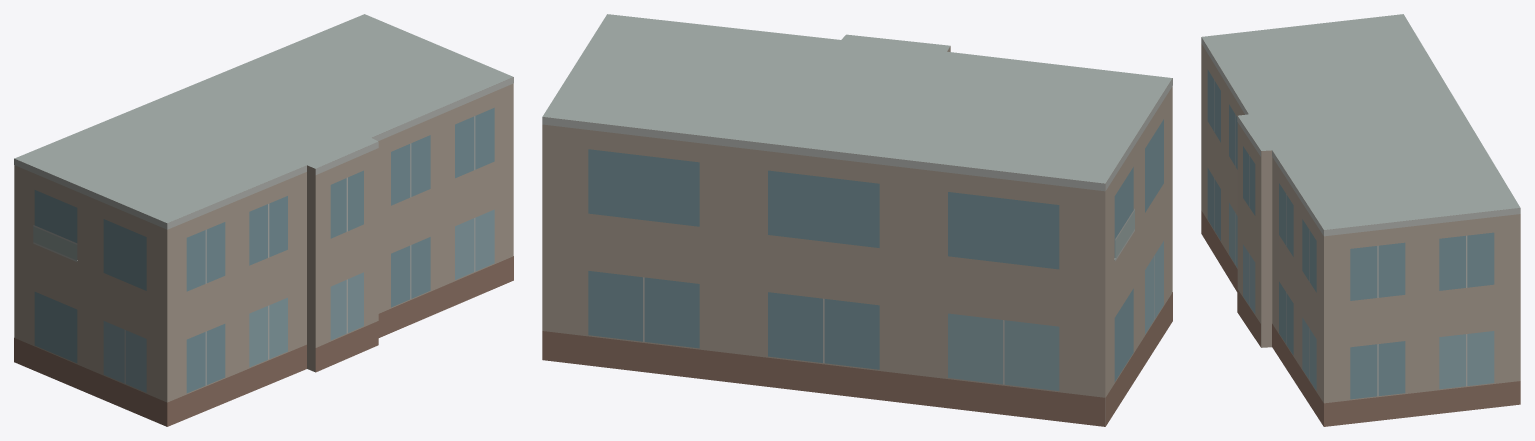
The model's file is survey-upis-32921725.glb.
The picture shows the model from 3 angles, left to right: view 1: azimuth 30°, elevation 25°; view 2: azimuth 150°, elevation 25°; view 3: azimuth 270°, elevation 25°; orthographic projection. The views are drawn at different scales.
Visible parts, largest first — view 1: survey-upis-32921725.tmp; view 2: survey-upis-32921725.tmp; view 3: survey-upis-32921725.tmp.
Part boxes in pixels (<box>): survey-upis-32921725.tmp: <box>14,14,513,426</box>; survey-upis-32921725.tmp: <box>542,14,1172,426</box>; survey-upis-32921725.tmp: <box>1201,14,1520,426</box>.
Size of the model in its own units: 18.15 by 7.7 by 11.33.
